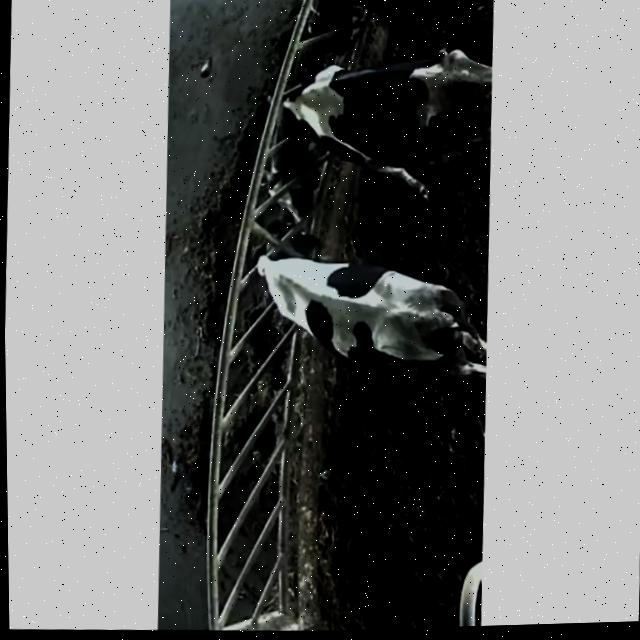eat: (230, 50, 397, 162), (193, 234, 350, 332), (261, 0, 430, 39)
